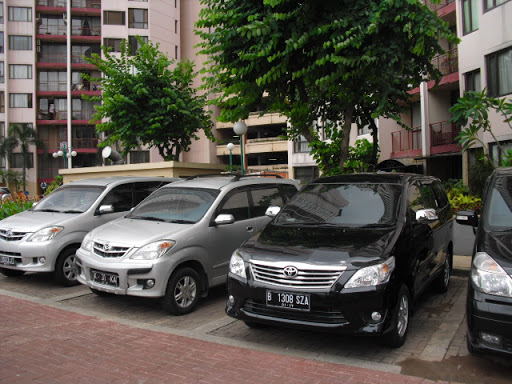plate: (266, 291, 309, 310), (90, 271, 117, 289), (1, 255, 15, 267)
